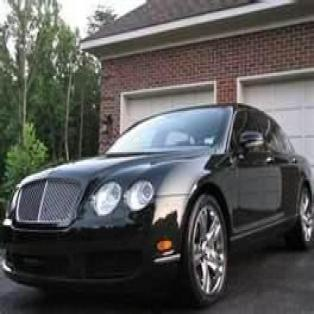Auto: (1, 100, 313, 312)
